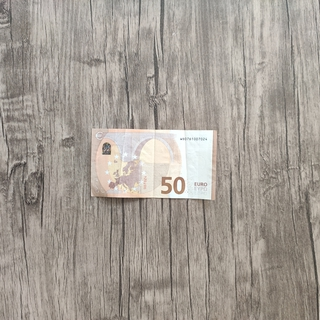50EUROBack: (89, 126, 218, 200)
